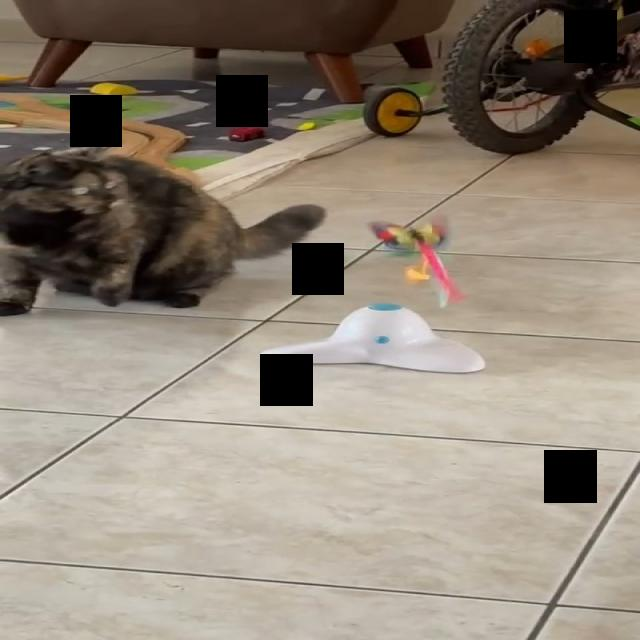authorized: (0, 143, 327, 315)
